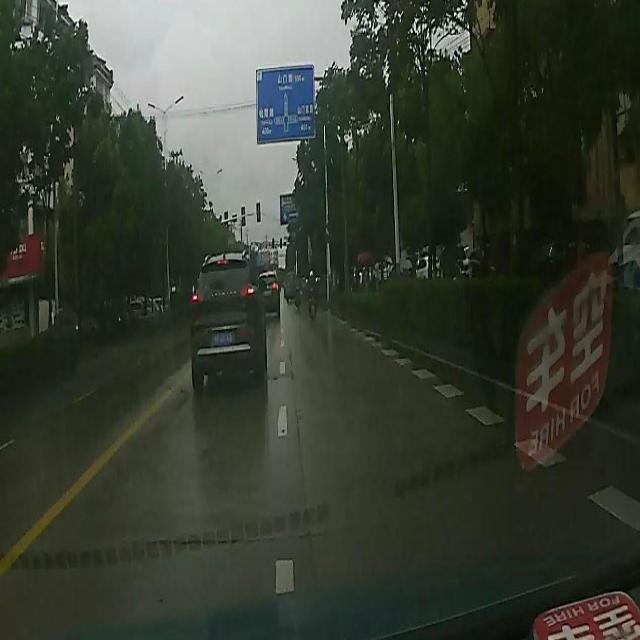car: (190, 254, 266, 386), (259, 268, 282, 322)
